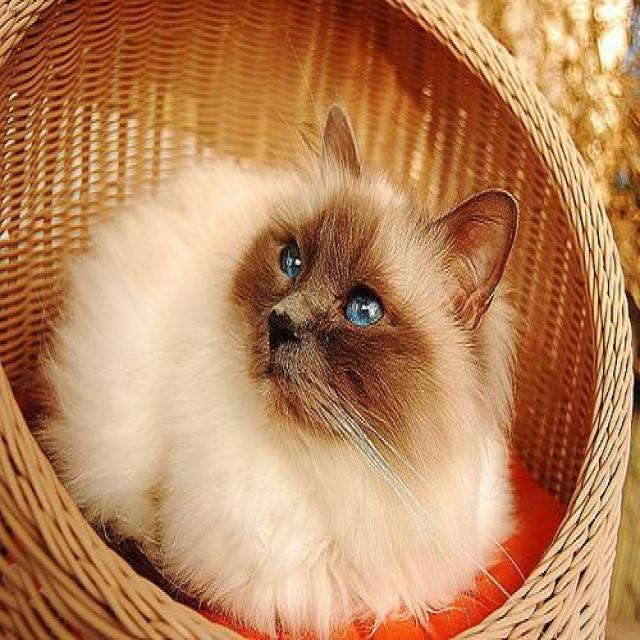cat: (50, 104, 517, 640)
